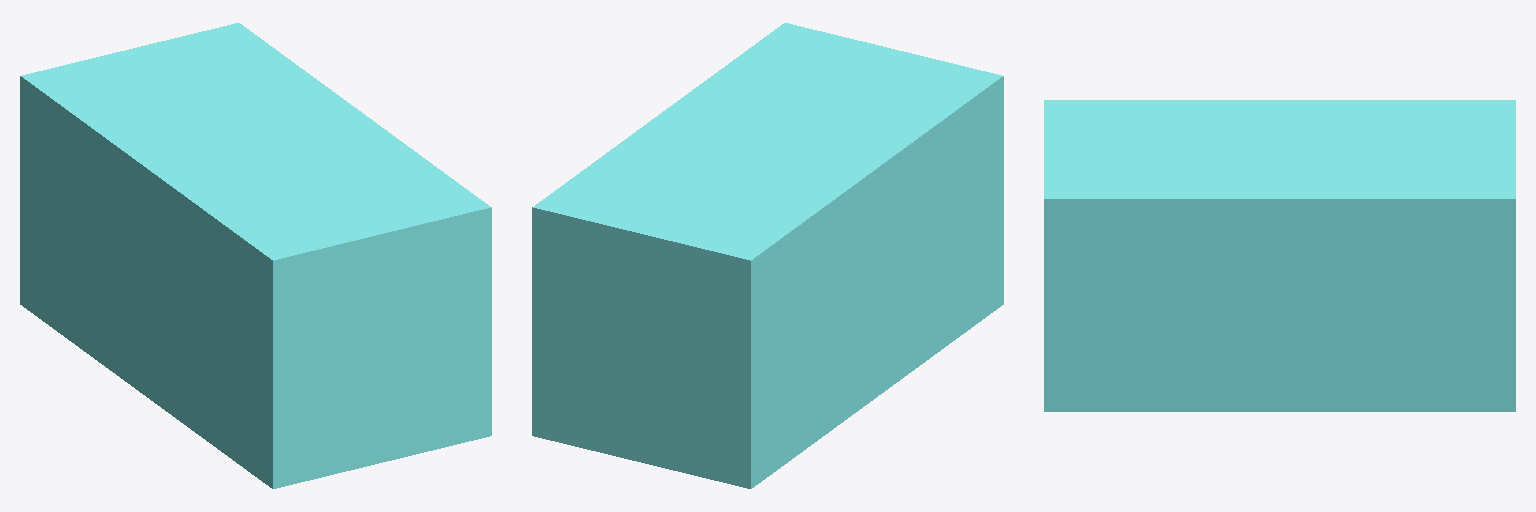
URDF robot description (block_2):
<?xml version="1.0"?>
<robot name="block_2">
  <link name="block_2_base_link">
    <contact>
      <lateral_friction value="0.5"/>
      <spinning_friction value=".001"/>
    </contact>
    <inertial>
      <origin rpy="0 0 0" xyz="0 0 0"/>
      <mass value="0.5"/>
      <inertia ixx="0.0000001" ixy="0" ixz="0" iyy="0.0000001" iyz="0" izz="0.0000001"/>
    </inertial>
    <visual>
      <origin rpy="0 0 0" xyz="0.0 0.0 0.0"/>
      <geometry>
        <box size="0.05 0.1 0.05"/>
      </geometry>
      <material name="blockmat">
        <color rgba="0.6 1 1 1"/>
      </material>
    </visual>
    <collision>
      <origin rpy="0 0 0" xyz="0.0 0.0 0.0"/>
      <geometry>
        <box size="0.05 0.1 0.05"/>
      </geometry>
    </collision>
  </link>
</robot>

--- What the picture shows (computed from the rendered views, not written in the file) ---
The picture shows the robot from 3 angles, left to right: view 1: azimuth 30°, elevation 25°; view 2: azimuth 150°, elevation 25°; view 3: azimuth 270°, elevation 25°; orthographic projection.
Model block_2 with 1 links and 0 joints (none), rooted at block_2_base_link, posed all joints at 0.
Links seen in each view (by area): view 1: block_2_base_link; view 2: block_2_base_link; view 3: block_2_base_link.
Link boxes in pixels (box(x1,y1,x2,y2)): block_2_base_link: box(20, 23, 491, 488); block_2_base_link: box(532, 23, 1003, 488); block_2_base_link: box(1044, 100, 1515, 411).
Size in the robot's own frame: 0.05 by 0.1 by 0.05 metres.
Geometry: primitives only (box / cylinder / sphere), no mesh files.